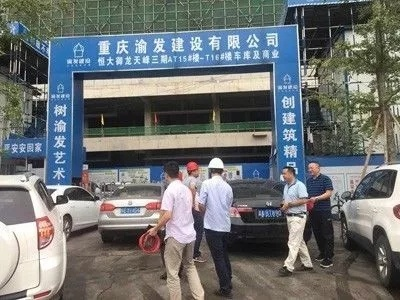none: (161, 160, 180, 183), (280, 165, 297, 183), (307, 160, 321, 177)
red: (186, 161, 199, 178)
white: (206, 157, 225, 177)
